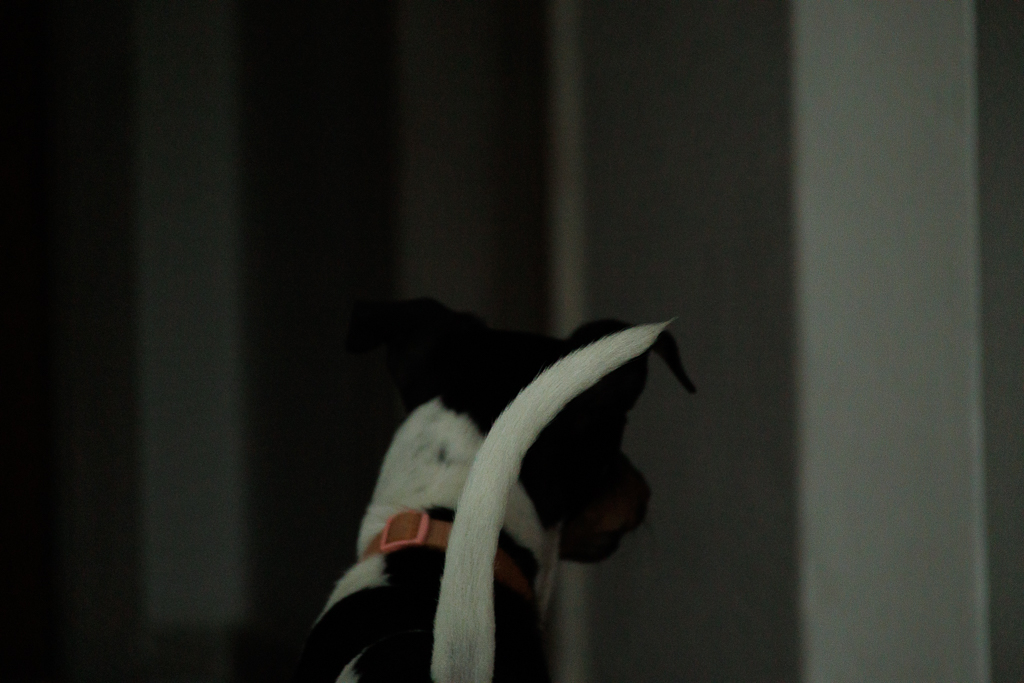Dog: (275, 291, 704, 683)
